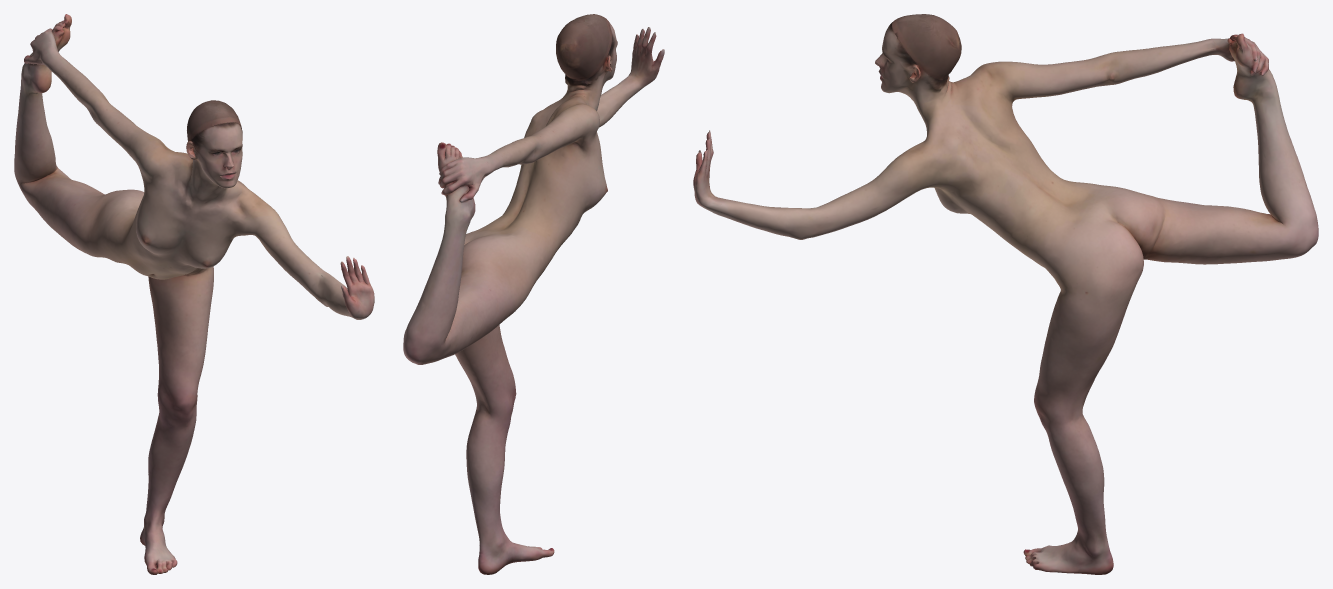
Rendered from dome012.glb.
The picture shows the model from 3 angles, left to right: view 1: azimuth 30°, elevation 25°; view 2: azimuth 150°, elevation 25°; view 3: azimuth 270°, elevation 25°; orthographic projection. The views are drawn at different scales.
Parts seen in each view (by area): view 1: Object_2; view 2: Object_2; view 3: Object_2.
Part boxes in pixels (bbox=[...]): Object_2: bbox=[14, 14, 374, 574]; Object_2: bbox=[403, 14, 664, 574]; Object_2: bbox=[693, 14, 1318, 574].
Bounding box in the file's own units: 0.3801 × 1.55 × 1.6.
Materials: 1 (1 with a texture image).
